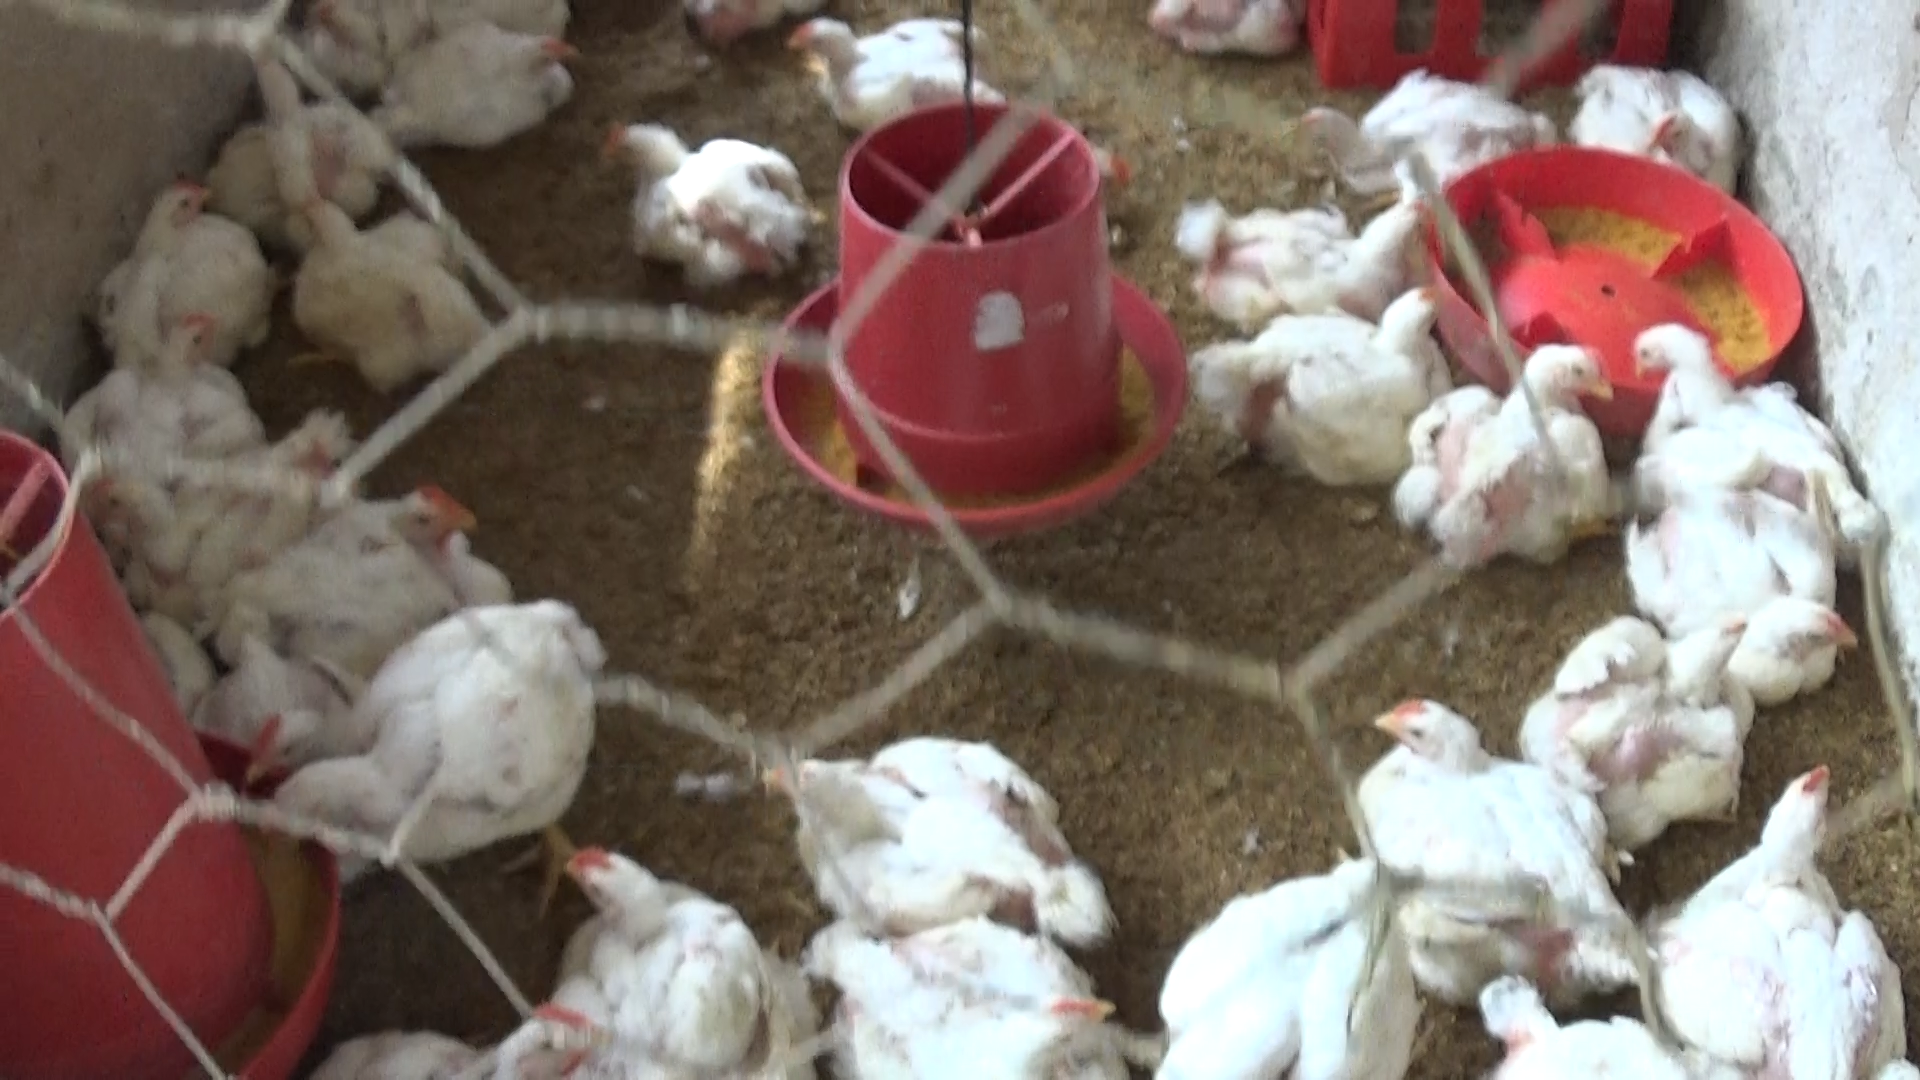Pollos: (1311, 678, 1642, 1006), (700, 703, 1142, 948), (256, 593, 616, 872), (1642, 748, 1907, 1077), (526, 829, 825, 1080), (1619, 456, 1859, 721), (789, 907, 1156, 1080), (1151, 852, 1416, 1080), (1617, 314, 1894, 524), (247, 469, 522, 679), (1370, 342, 1626, 563), (1182, 273, 1455, 473), (1553, 599, 1755, 848), (585, 117, 829, 314), (277, 182, 498, 386), (1567, 44, 1789, 214), (1271, 44, 1549, 179), (76, 166, 280, 348), (79, 446, 291, 615), (1178, 191, 1431, 323), (372, 24, 615, 152), (55, 284, 235, 456), (177, 625, 384, 767), (779, 1, 1015, 123), (392, 975, 657, 1080)
